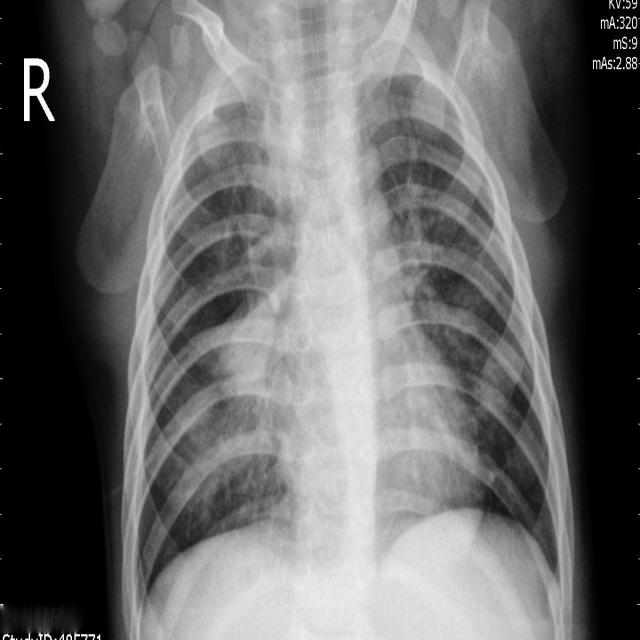low-pneumonia: (204, 296, 285, 478), (367, 87, 434, 307), (225, 60, 280, 281)
